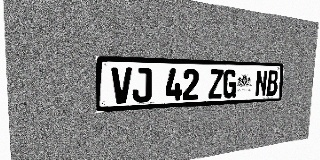2: (182, 68, 199, 100)
4: (165, 68, 183, 101)
B: (266, 70, 278, 96)
G: (222, 69, 237, 98)
J: (132, 68, 152, 103)
N: (255, 70, 268, 97)
V: (111, 67, 132, 104)
Z: (208, 69, 223, 99)
